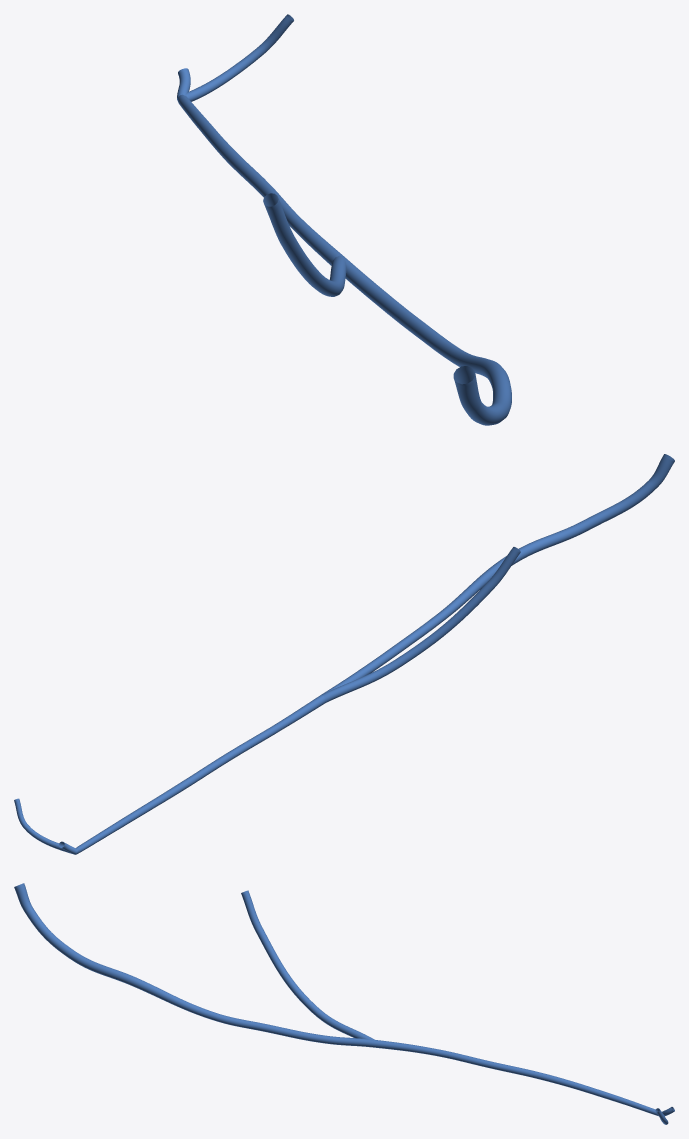
The picture shows the model from 3 angles, top to bottom: view 1: azimuth 30°, elevation 25°; view 2: azimuth 150°, elevation 25°; view 3: azimuth 270°, elevation 25°; orthographic projection. The views are drawn at different scales.
Visible parts, largest first — view 1: 左侧前臂正中静脉; view 2: 左侧前臂正中静脉; view 3: 左侧前臂正中静脉.
Boxes of the visible parts, x1,y1,x2,y2 form: 左侧前臂正中静脉: (177, 14, 511, 425); 左侧前臂正中静脉: (14, 454, 674, 854); 左侧前臂正中静脉: (14, 883, 674, 1124).
Bounding box in the file's own units: 0.1276 × 0.0752 × 0.3063.
